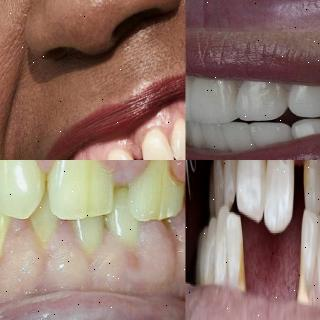Gum Swelling: (0, 225, 186, 295)
calculus: (294, 263, 311, 313)
maligned: (266, 160, 297, 227), (298, 207, 318, 306), (224, 212, 242, 296), (238, 160, 266, 214), (204, 210, 220, 287), (217, 200, 229, 281), (197, 221, 211, 289), (303, 160, 320, 207), (202, 160, 216, 214), (211, 160, 223, 219), (222, 160, 235, 211)
stains: (235, 239, 246, 293), (301, 160, 313, 200)
